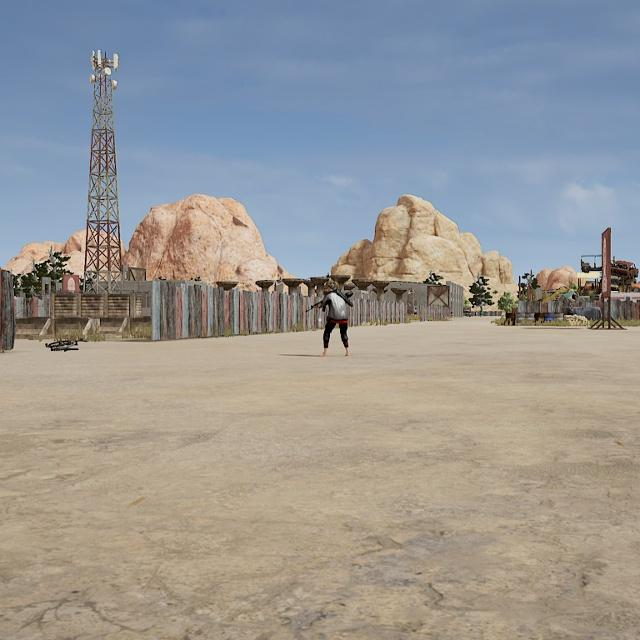head: (324, 278, 338, 293)
people: (317, 278, 352, 358)
